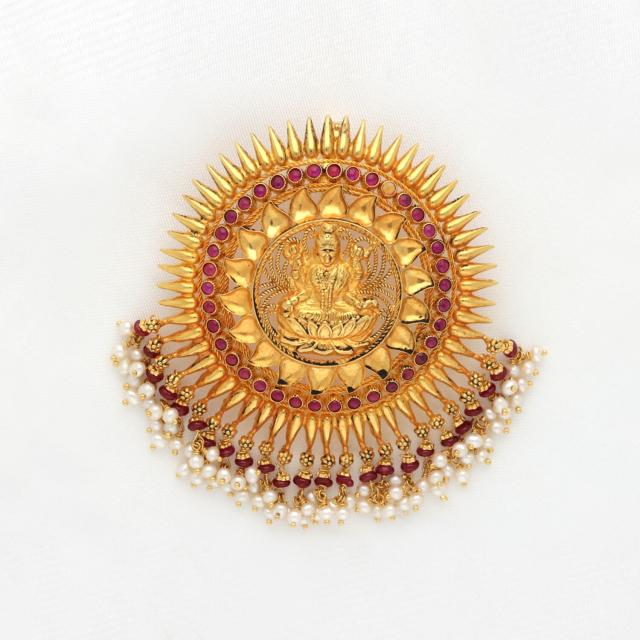missing gem: (383, 182, 396, 195)
